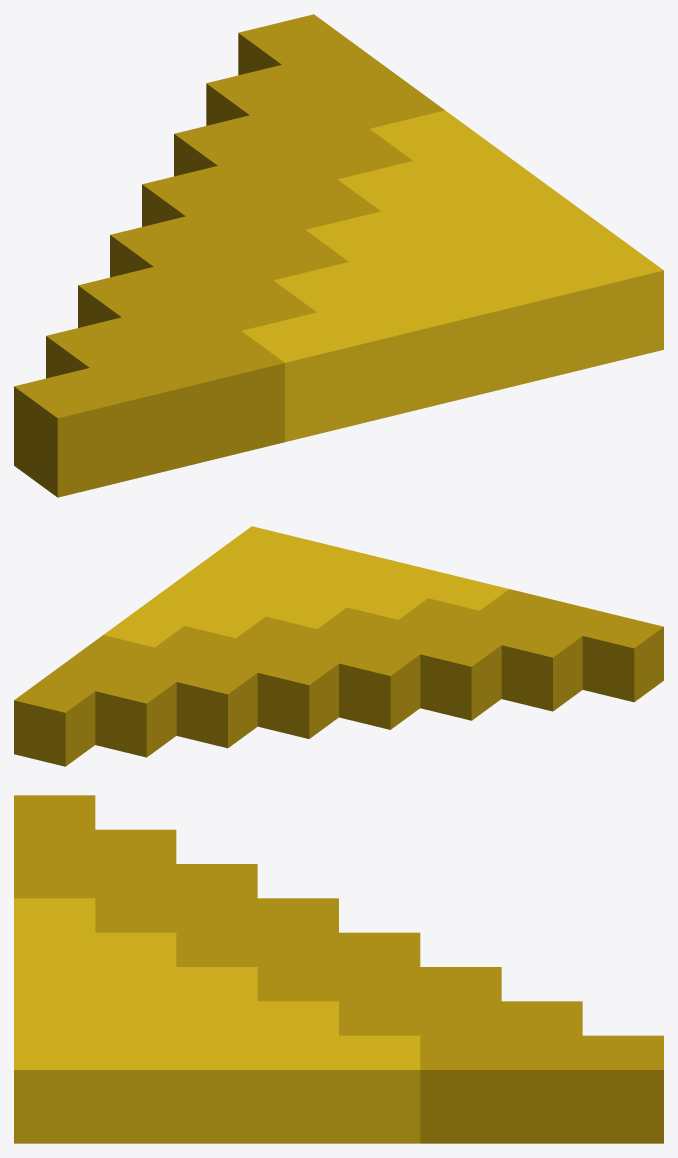
Rendered from path_yellow_corner_medium.obj.
The picture shows the model from 3 angles, top to bottom: view 1: azimuth 30°, elevation 25°; view 2: azimuth 150°, elevation 25°; view 3: azimuth 270°, elevation 25°; orthographic projection. The views are drawn at different scales.
Size of the model in its own units: 0.8 by 0.1 by 0.8.
1 material, 1 textured.
